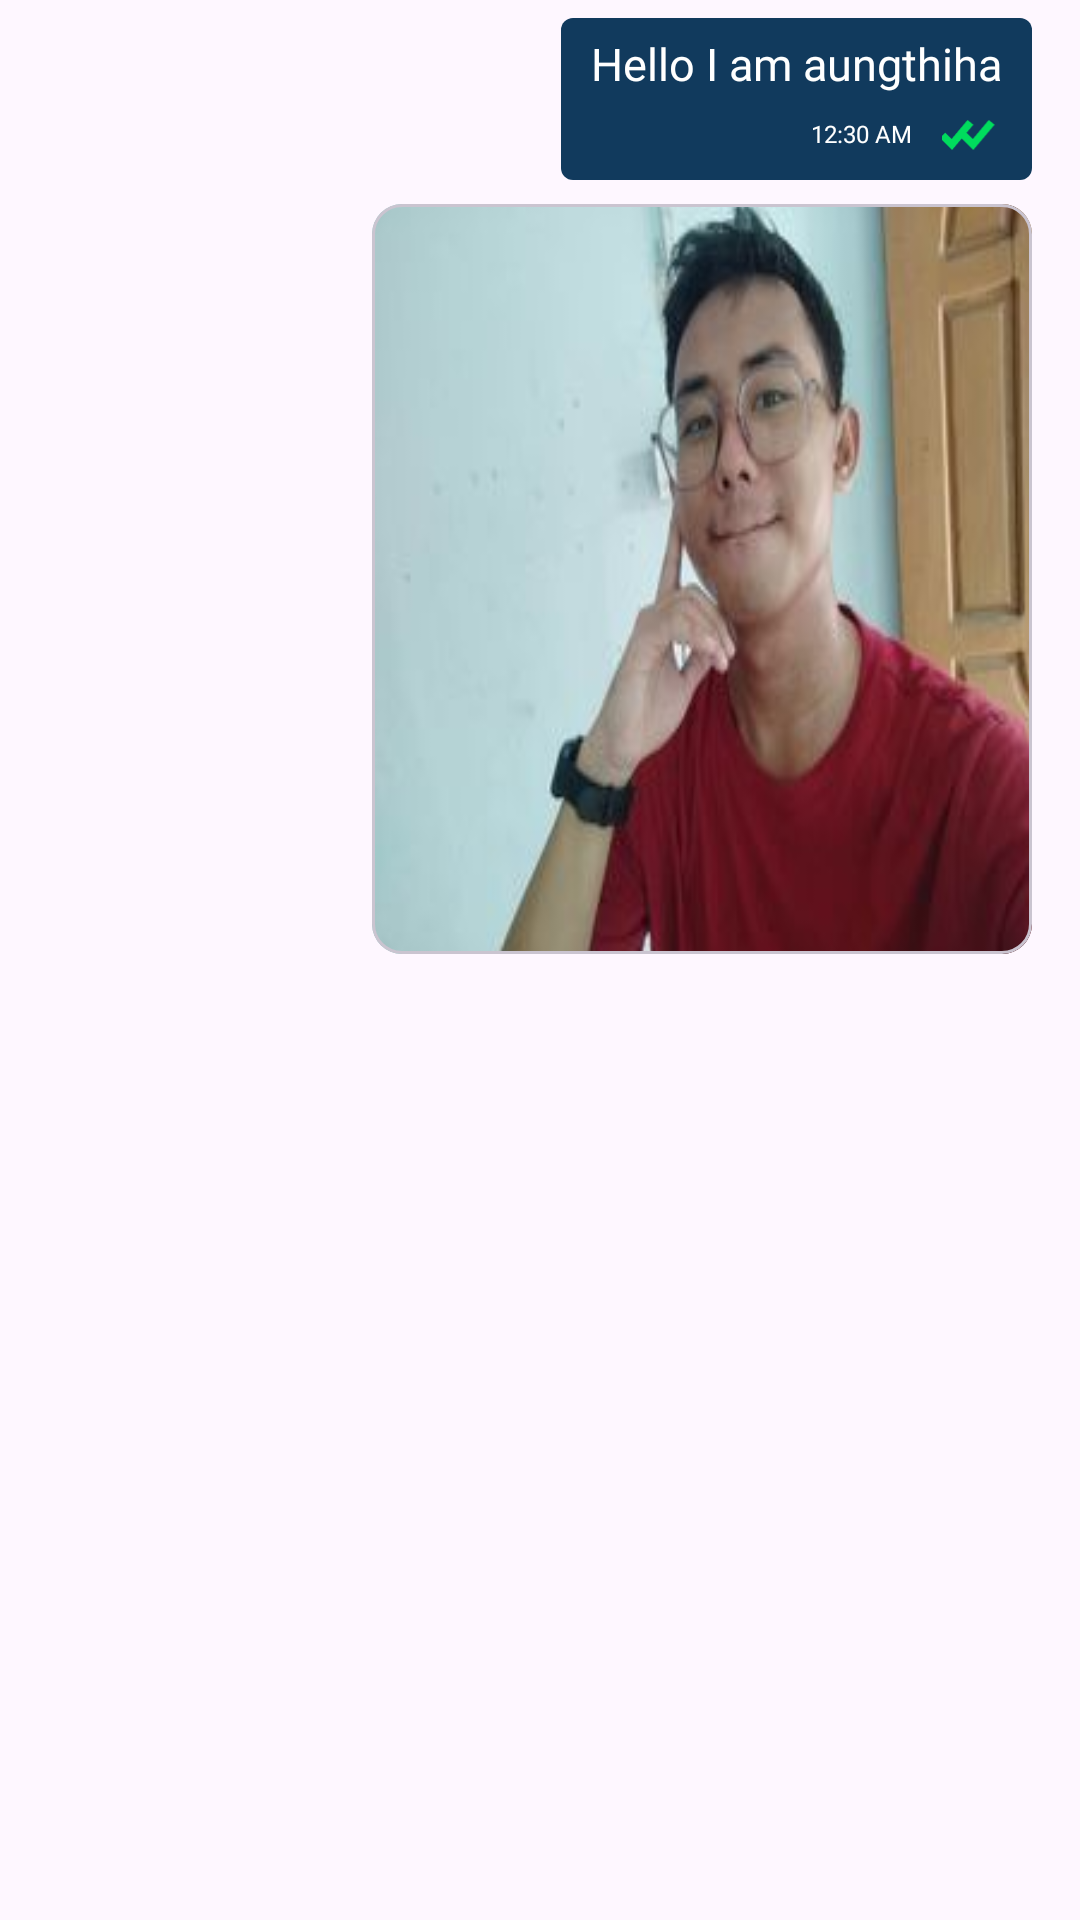

Locate icon controls on the screen. Image size 1080*1920, boxes as (x1=x1, y1=y1, x2=x2, y2=y2).
seen: (x1=942, y1=120, x2=995, y2=150)
